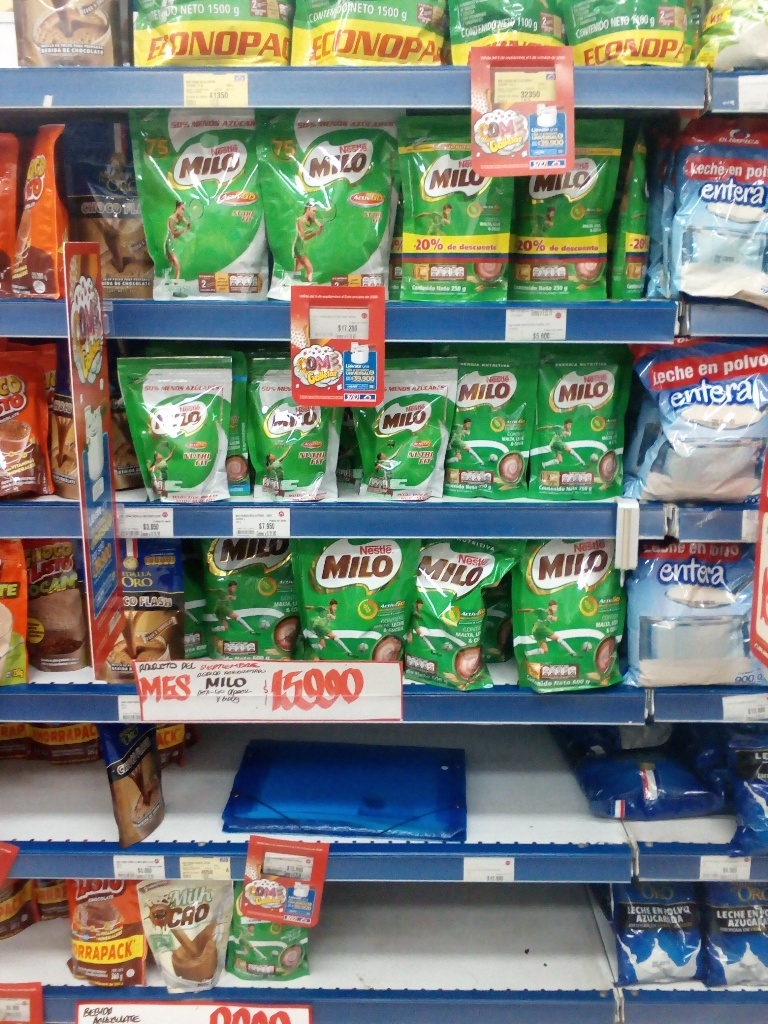COL0170103DYP36000: (66, 873, 144, 989)
COL0170203DYP25000: (399, 112, 511, 303)
COL0170205DYP50000: (134, 118, 274, 305)
